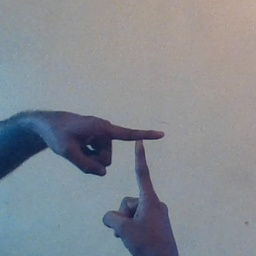T: (85, 107, 180, 214)
